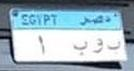1: (37, 33, 47, 55)
baa: (71, 38, 89, 57), (107, 38, 122, 56)
waw: (91, 37, 104, 57)
